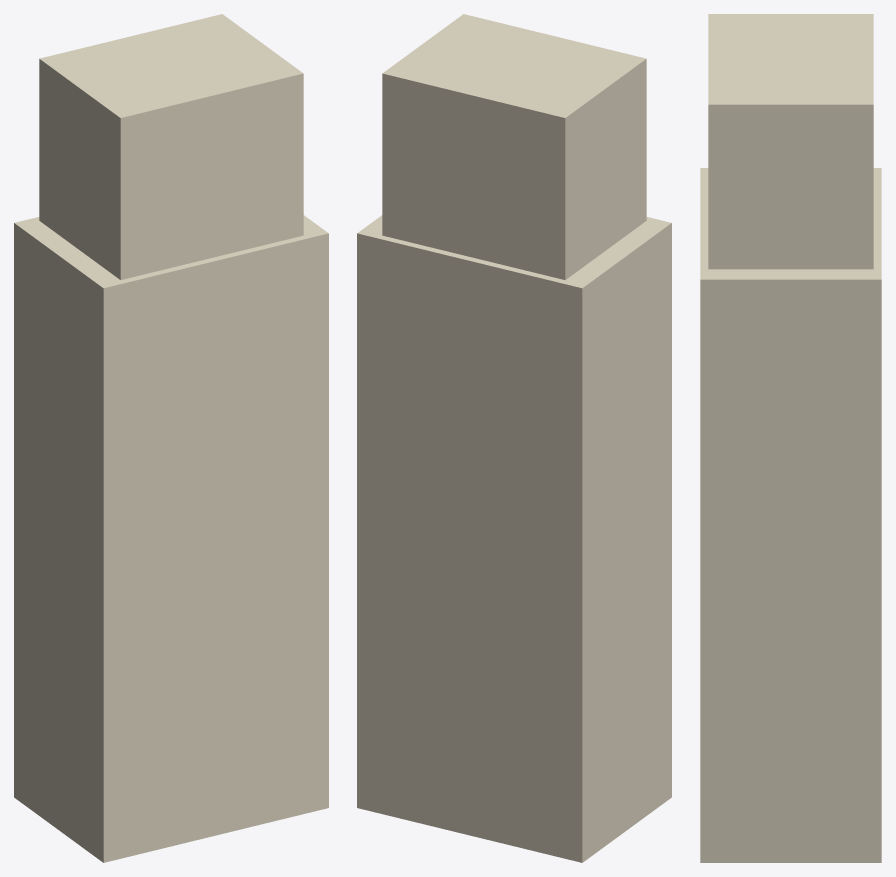
Rendered from place-leshan-giant-buddha.glb.
3 views of the same model, side by side, from view 1: azimuth 30°, elevation 25°; view 2: azimuth 150°, elevation 25°; view 3: azimuth 270°, elevation 25° (orthographic).
Visible parts, largest first — view 1: place-leshan-giant-buddha; view 2: place-leshan-giant-buddha; view 3: place-leshan-giant-buddha.
Part boxes in pixels (<box>): place-leshan-giant-buddha: <box>14,14,328,862</box>; place-leshan-giant-buddha: <box>357,14,671,862</box>; place-leshan-giant-buddha: <box>700,14,881,862</box>.
Bounding box in the file's own units: 22.72 × 71 × 15.62.
